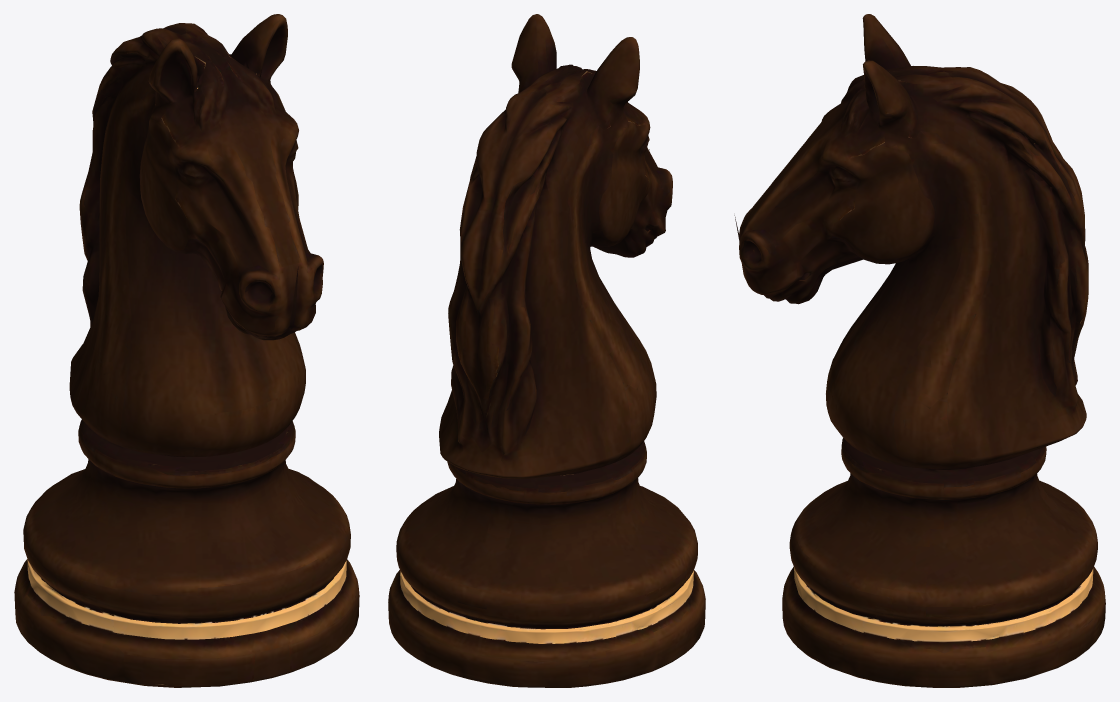
Rendered from knight_dark.glb.
The picture shows the model from 3 angles, left to right: view 1: azimuth 30°, elevation 25°; view 2: azimuth 150°, elevation 25°; view 3: azimuth 270°, elevation 25°; orthographic projection. The views are drawn at different scales.
Visible parts, largest first — view 1: geometry_0; view 2: geometry_0; view 3: geometry_0.
Boxes of the visible parts, x1,y1,x2,y2 form: geometry_0: (14,14,359,687); geometry_0: (388,14,705,687); geometry_0: (734,14,1105,687).
Size of the model in its own units: 0.5061 by 1 by 0.5785.
1 material, 1 textured.
